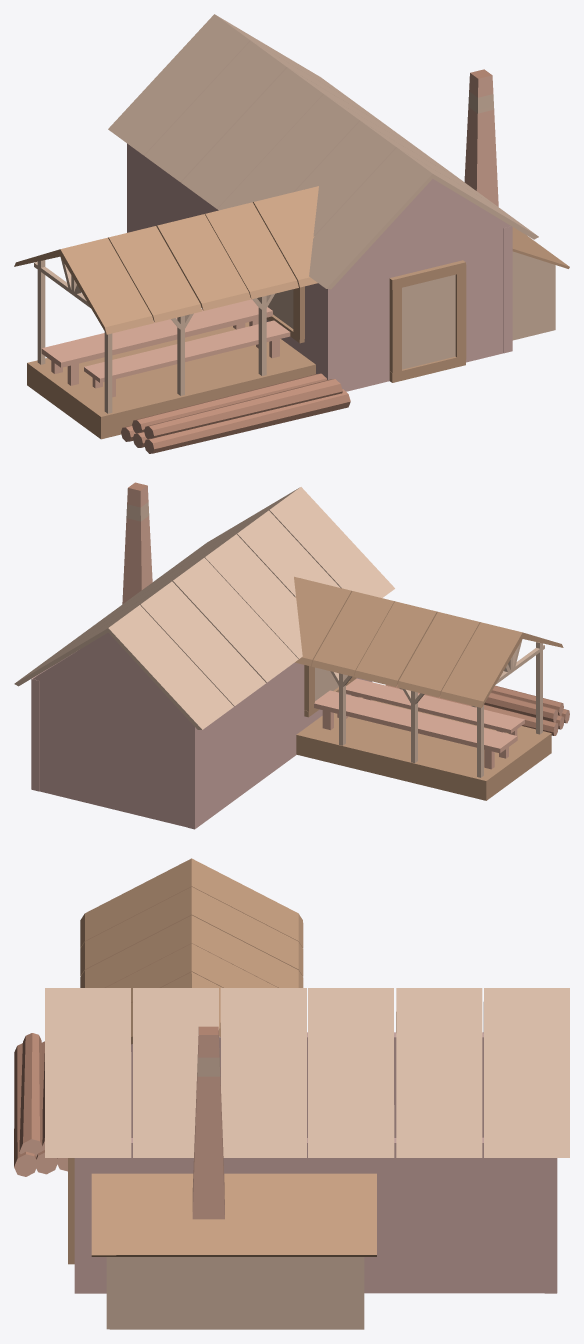
Rendered from lumber mill.fbx.
3 renders of one model, top to bottom at view 1: azimuth 30°, elevation 25°; view 2: azimuth 150°, elevation 25°; view 3: azimuth 270°, elevation 25°, orthographic. The views are drawn at different scales.
Visible parts, largest first — view 1: wall_2, base_3, rf_8 (×2), rf_6 (×2), rf_4 (×2), rf_2 (×2), rf_0, wall_1, rf_10, bench_1, rf10, r_5 (+25 smaller); view 2: wall_4, wall_1, base_3, rf_10, rf_6, rf_8, rf_0, rf_4, rf_9 (×2), bench_1, rf_5 (×2), rf_7 (×2) (+17 smaller); view 3: wall_3, roof_top_2, w_2, rf_9 (×2), rf_7 (×2), rf_5 (×2), rf_1, rf_11, rf_3 (×2), chimni, rf_8, rf10 (+8 smaller).
Part boxes in pixels (bbox=[...]): wall_2: bbox=[336, 179, 511, 391]; base_3: bbox=[27, 322, 315, 439]; rf_8 (×2): bbox=[108, 41, 286, 322]; rf_6 (×2): bbox=[157, 67, 323, 310]; rf_4 (×2): bbox=[205, 94, 359, 299]; rf_2 (×2): bbox=[253, 121, 396, 287]; rf_0: bbox=[309, 148, 432, 289]; wall_1: bbox=[127, 143, 336, 379]; rf_10: bbox=[108, 14, 250, 155]; bench_1: bbox=[41, 298, 272, 385]; rf10: bbox=[60, 237, 153, 334]; r_5: bbox=[402, 274, 455, 369]; wall_4: bbox=[33, 632, 187, 827]; wall_1: bbox=[187, 662, 372, 829]; base_3: bbox=[296, 695, 551, 800]; rf_10: bbox=[108, 605, 233, 729]; rf_6: bbox=[173, 557, 298, 682]; rf_8: bbox=[140, 581, 265, 706]; rf_0: bbox=[269, 487, 394, 597]; rf_4: bbox=[205, 534, 302, 658]; rf_9 (×2): bbox=[47, 582, 522, 707]; bench_1: bbox=[314, 690, 517, 769]; rf_5 (×2): bbox=[111, 535, 436, 686]; rf_7 (×2): bbox=[80, 559, 479, 697]; wall_3: bbox=[74, 1137, 557, 1293]; roof_top_2: bbox=[91, 1173, 376, 1256]; w_2: bbox=[109, 1257, 364, 1329]; rf_9 (×2): bbox=[191, 858, 482, 1157]; rf_7 (×2): bbox=[191, 887, 394, 1157]; rf_5 (×2): bbox=[191, 915, 306, 1157]; rf_1: bbox=[45, 988, 131, 1157]; rf_11: bbox=[484, 988, 569, 1157]; rf_3 (×2): bbox=[133, 943, 277, 1157]; chimni: bbox=[192, 1026, 224, 1219]; rf_8: bbox=[80, 887, 191, 976]; rf10: bbox=[80, 858, 191, 947].
Size of the model in its own units: 25.33 by 12.04 by 21.67.
